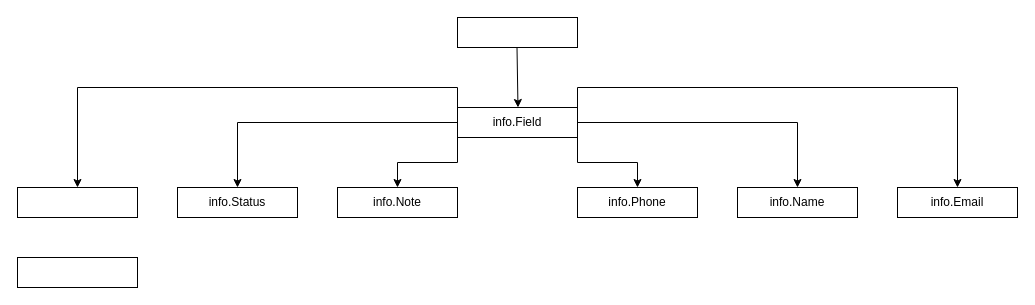
Some shapes in this 1035 by 305 pixel diagram are drawn without their labels. Here are the shapes that lost their labels. From the top down, the centre of each, then its label:
At pixel 517 32: "ABC".
At pixel 77 202: "info.Birthday".
At pixel 77 272: "info.Record".
